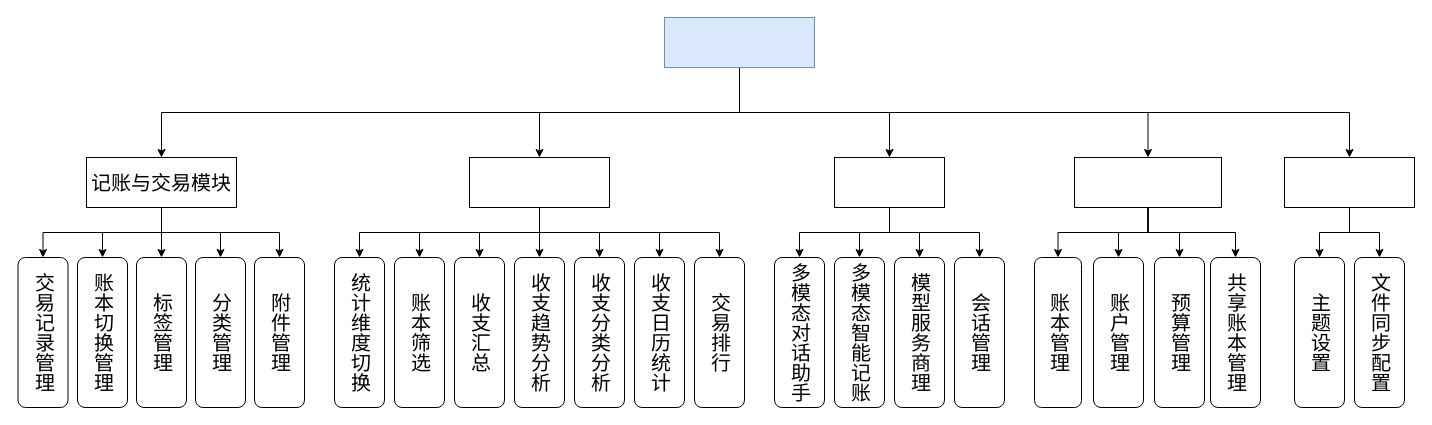
Image size: 1432x425. Some labels were removed from this diagram. Each missing label, with the box of its shape:
AI辅助模块: (834, 156, 944, 208)
个人中心模块: (1284, 156, 1414, 208)
个人记账系统: (664, 16, 814, 68)
数据统计模块: (468, 156, 610, 208)
账本与预算模块: (1074, 156, 1222, 208)
